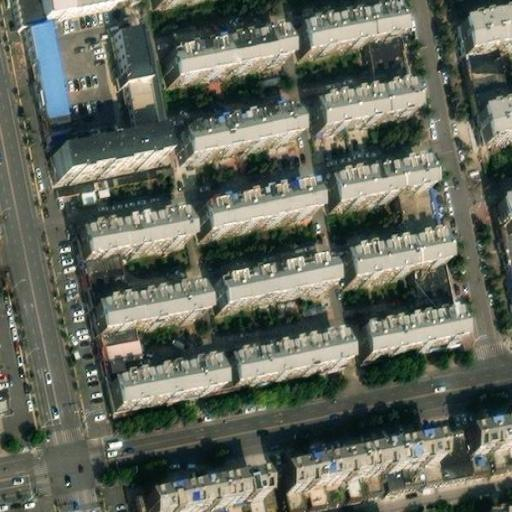building: (167, 23, 291, 77), (193, 179, 315, 232), (225, 330, 347, 382), (101, 357, 220, 409), (209, 257, 328, 308), (181, 106, 300, 155), (86, 281, 199, 331), (74, 209, 188, 258), (357, 305, 465, 356), (298, 1, 405, 51), (327, 153, 434, 201), (53, 131, 161, 177), (343, 229, 444, 278), (452, 12, 502, 110), (313, 79, 417, 126), (22, 14, 63, 114), (361, 435, 444, 475), (282, 452, 365, 492), (490, 189, 512, 325), (125, 68, 165, 135), (96, 323, 141, 379), (368, 31, 411, 85), (82, 251, 126, 302), (462, 415, 512, 458), (398, 182, 437, 235), (115, 19, 152, 74), (147, 483, 217, 512), (212, 472, 269, 507), (471, 101, 512, 141), (413, 259, 448, 289), (196, 497, 265, 512)
